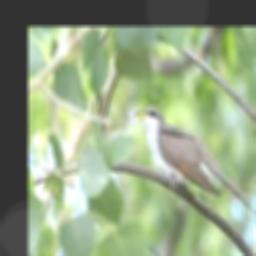Cuckoo: (133, 104, 256, 217)
